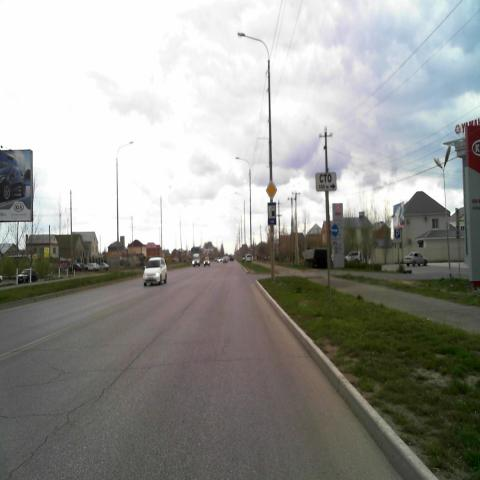4_1_2_1: (331, 223, 339, 238)
